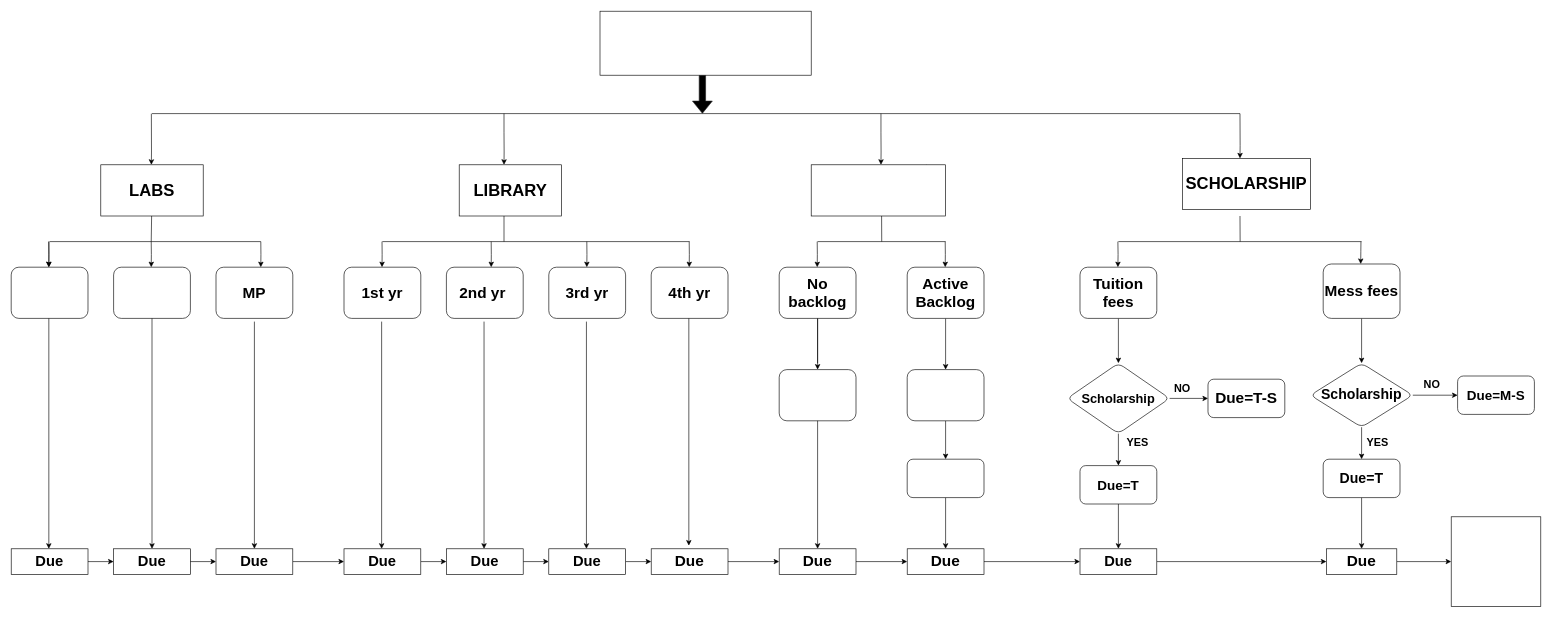
The diagram is 1552 pixels wide and 618 high, and some of its shapes have lost their labels. The shapes that lost their labels are listed below. From the top down, each one's centre as x and y in pixels, then its label:
[705,43]: SECTIONS
[878,190]: EXAMINATION
[49,292]: DEC
[151,292]: CHE
[817,395]: 0 rupees
[945,395]: No.of backlogs
[945,478]: Due= Backlogs*250
[1496,561]: TOTAL DUE
